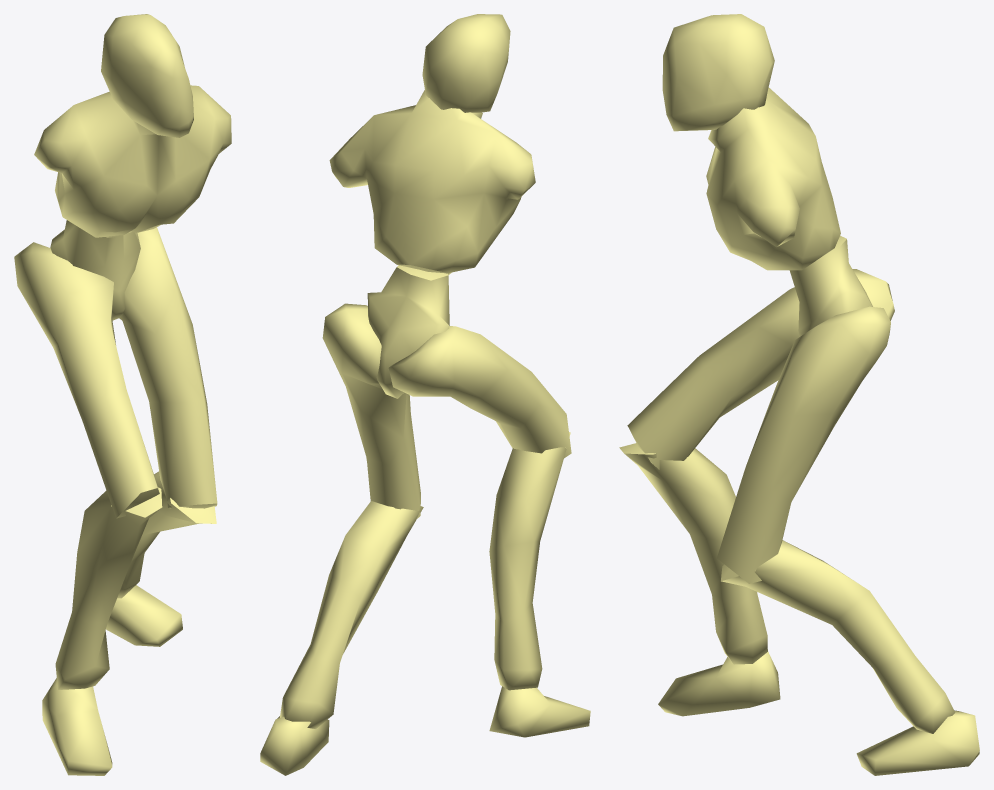
The model's file is filth68.obj.
3 renders of one model, left to right at view 1: azimuth 30°, elevation 25°; view 2: azimuth 150°, elevation 25°; view 3: azimuth 270°, elevation 25°, orthographic. The views are drawn at different scales.
Parts seen in each view (by area): view 1: Melee_Husk; view 2: Melee_Husk; view 3: Melee_Husk.
Part boxes in pixels (x1,y1,x2,y2): Melee_Husk: [14, 14, 231, 775]; Melee_Husk: [260, 14, 590, 775]; Melee_Husk: [619, 14, 979, 775].
Bounding box in the file's own units: 22.14 × 71.34 × 32.1.
